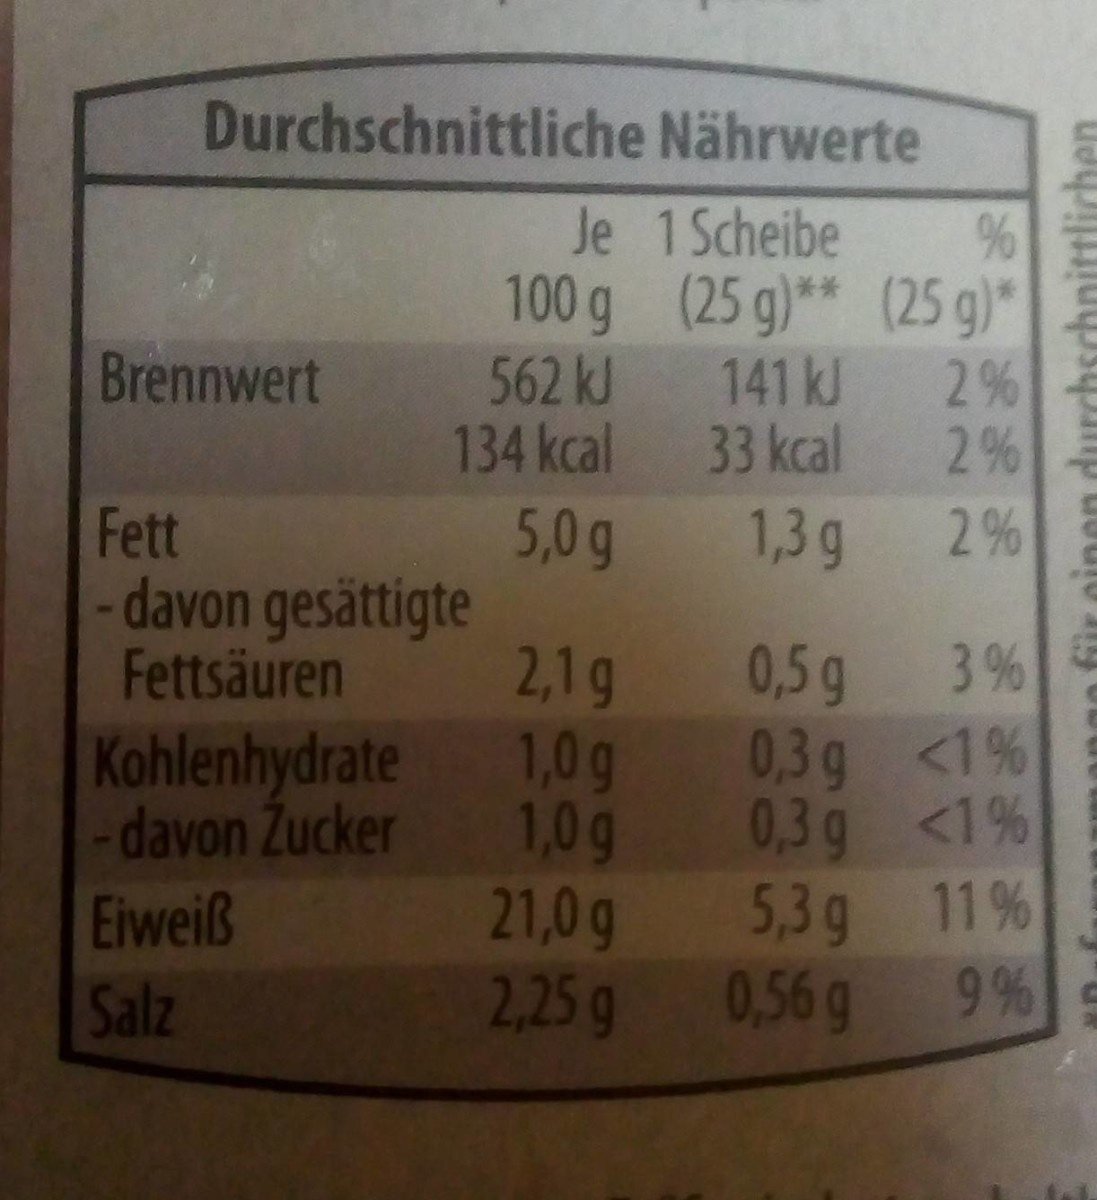column: (89, 343, 427, 1055), (656, 203, 850, 1063), (452, 203, 616, 1063), (883, 206, 1032, 1023)
table: (72, 55, 1045, 1103)
